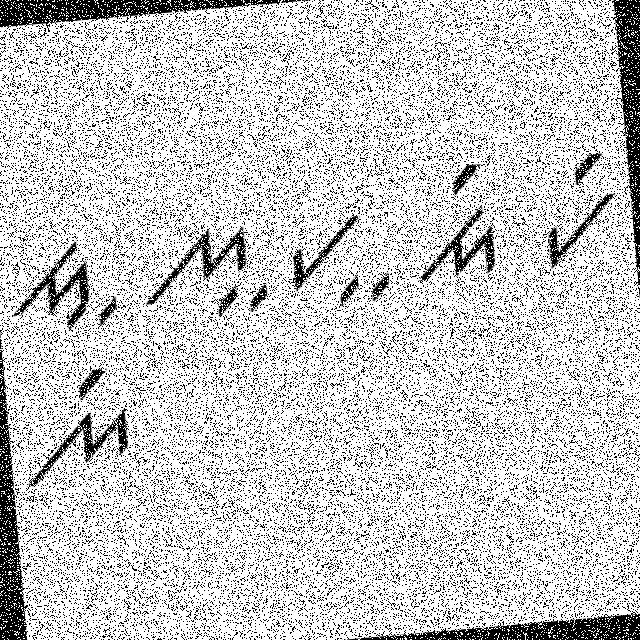dah: (3, 227, 122, 340)
dang: (406, 156, 511, 296)
nah: (132, 212, 271, 337)
nang: (17, 360, 142, 497)
pah: (284, 198, 404, 312)
pang: (532, 142, 628, 276)
